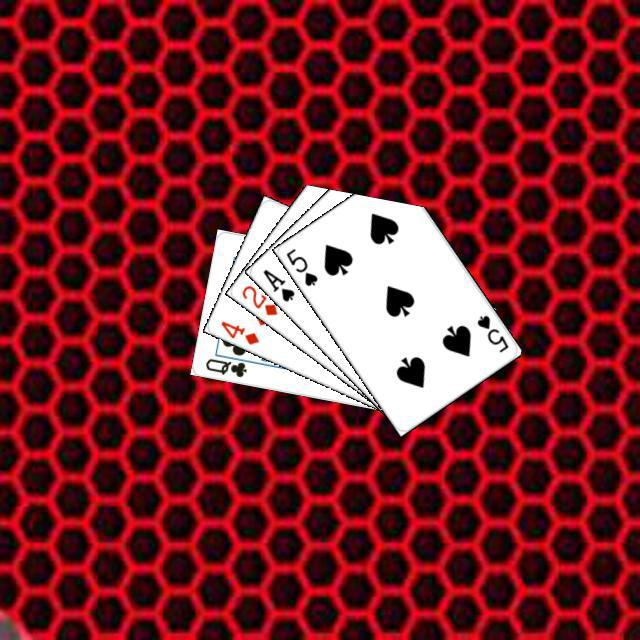2d: (237, 280, 279, 317)
4d: (216, 316, 261, 346)
5s: (281, 243, 319, 288), (472, 310, 510, 354)
As: (258, 264, 297, 303)
Qc: (201, 347, 254, 379)
